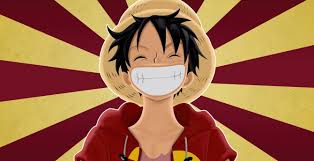luffy: (79, 1, 240, 161)
